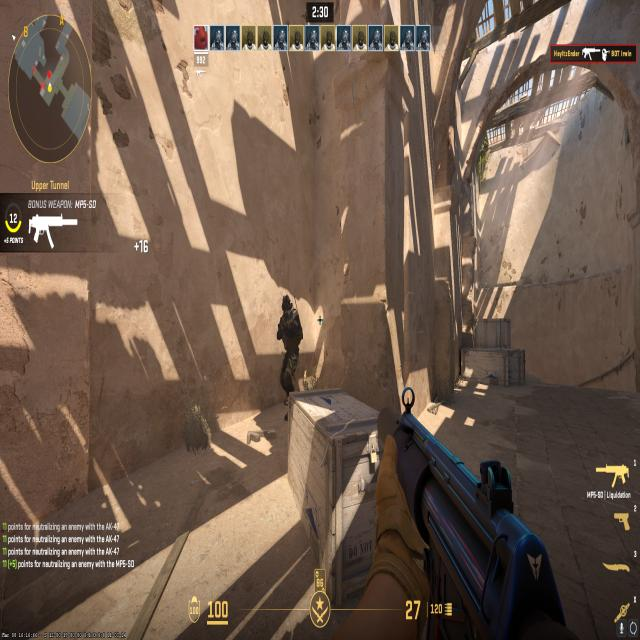ct: (270, 286, 302, 396)
